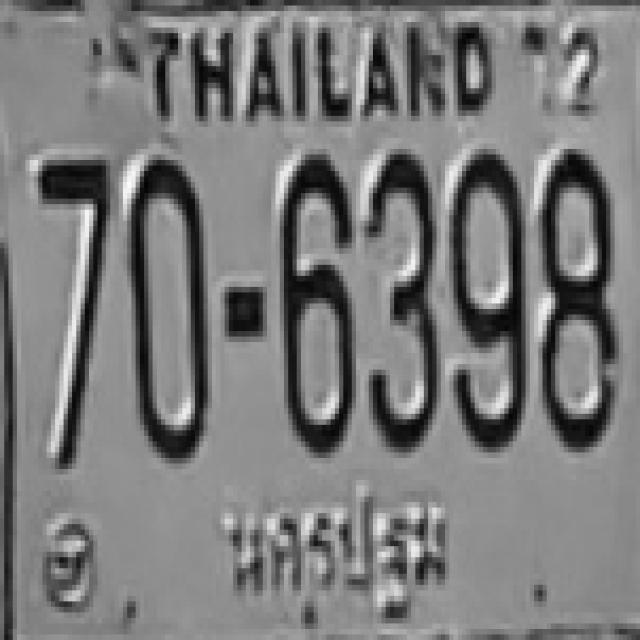0: (127, 154, 208, 458), (445, 146, 526, 340)
3: (364, 149, 436, 452)
6: (278, 149, 354, 452)
8: (538, 146, 615, 450)
9: (447, 160, 524, 447)
NakhonPathom: (218, 482, 458, 627)
